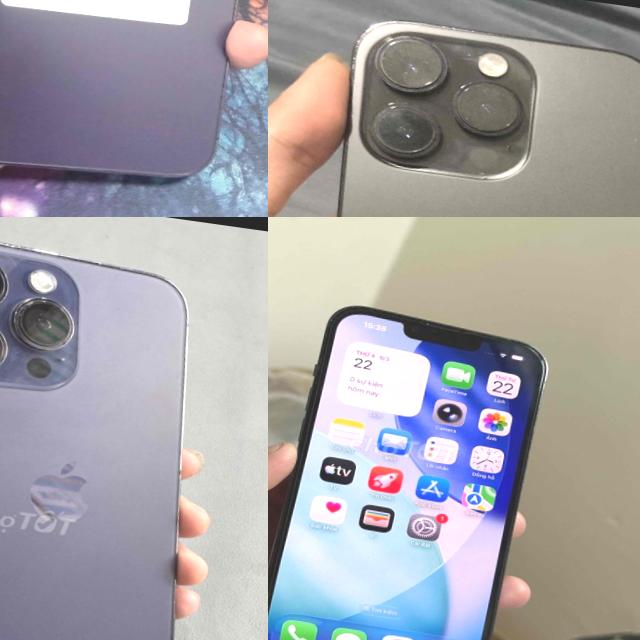gen_12_13: (268, 298, 561, 640)
gen_14: (0, 217, 253, 640), (281, 4, 640, 217), (0, 0, 268, 197)
